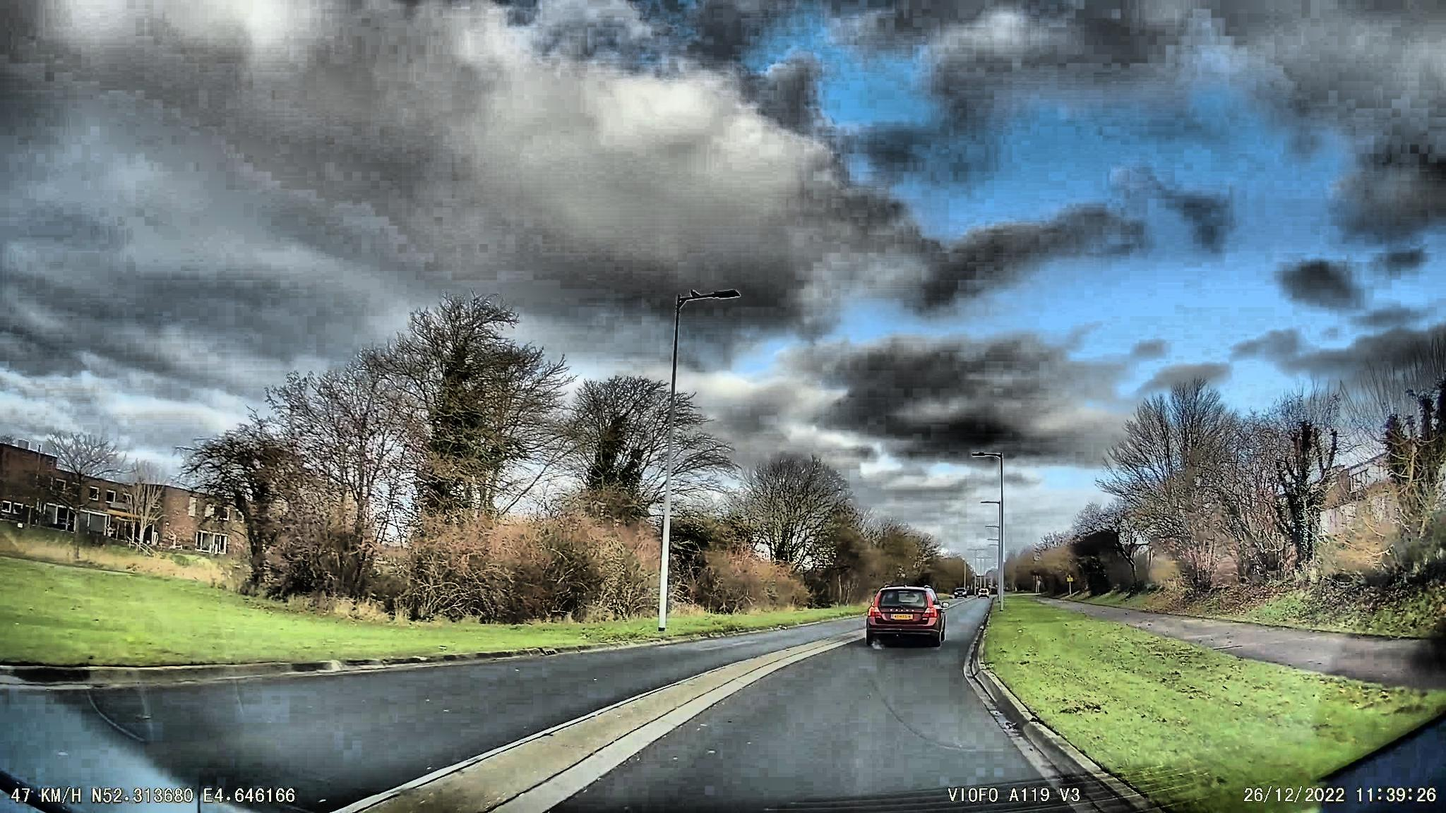Roads: (0, 596, 1144, 813)
